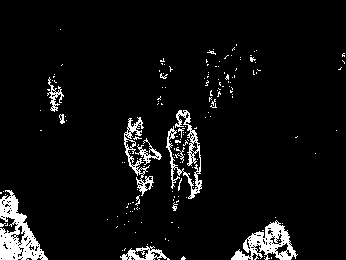person: (166, 107, 203, 213), (124, 117, 163, 213), (1, 188, 45, 260)
